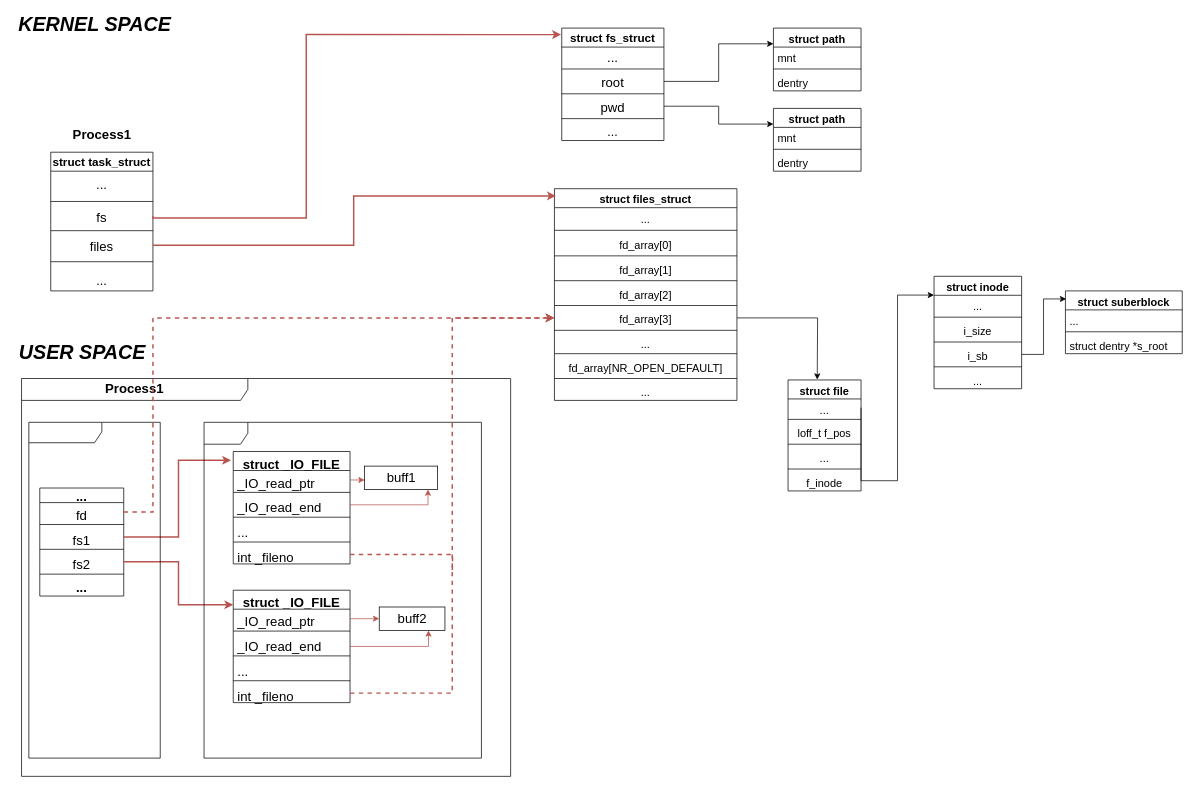
The diagram is 1195 pixels wide and 789 high, and some of its shapes have lost their labels. Here are the shapes that lost their labels. From the top down, the centre of each, then its label:
At pixel 94 590: "Call Stack".
At pixel 342 590: "HEAP".
